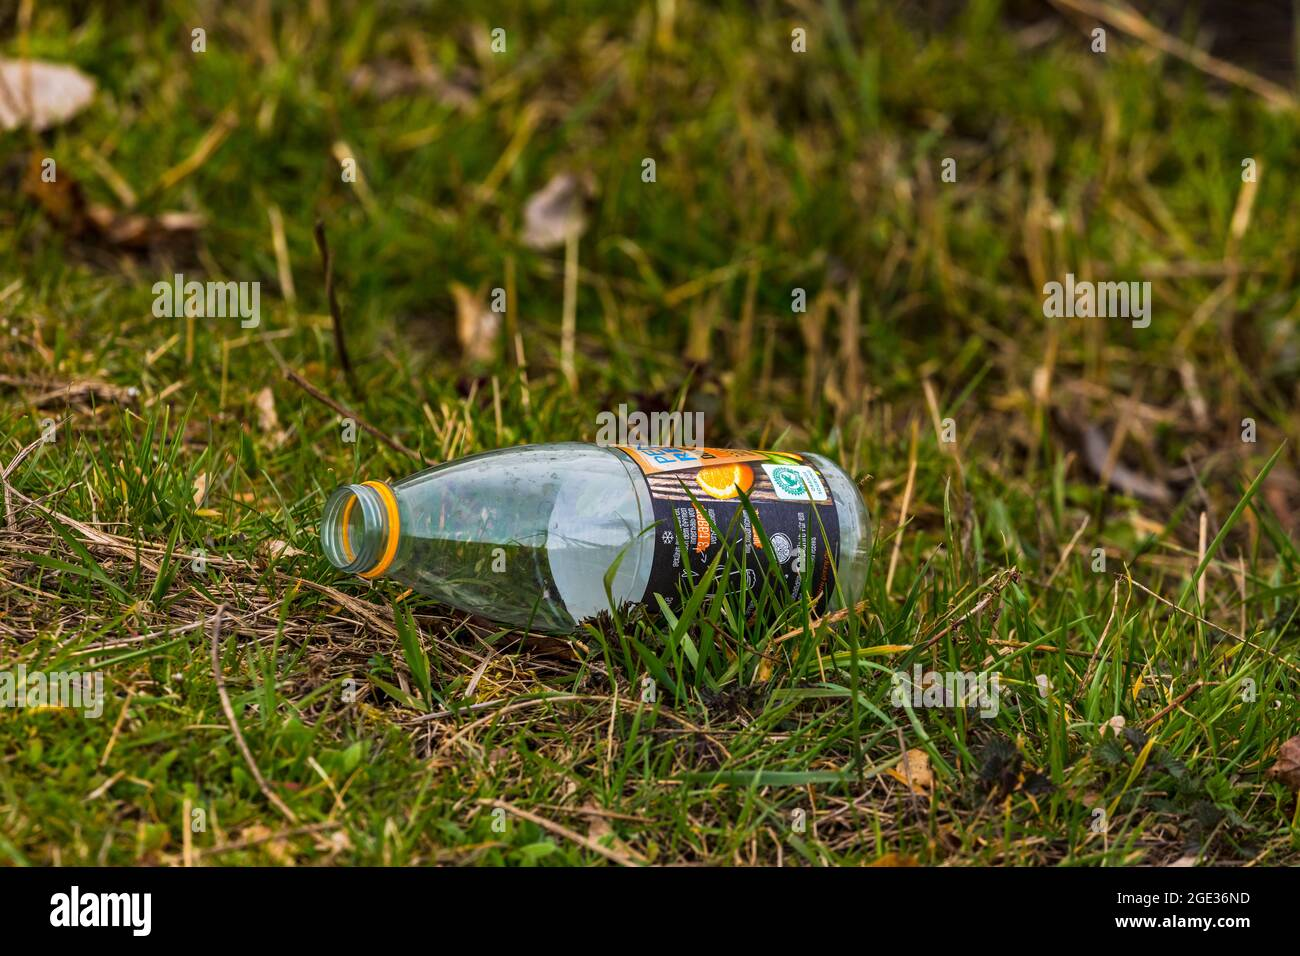glass_bottle: (293, 416, 883, 651)
